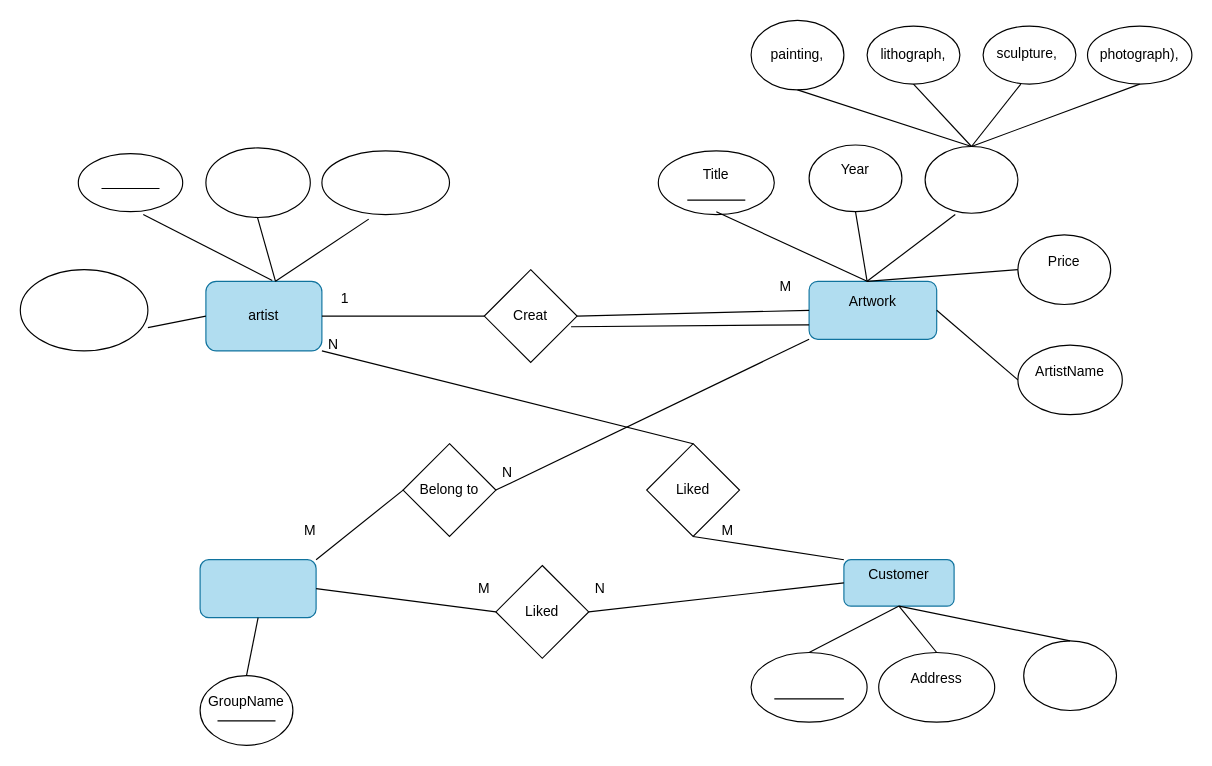
Image size: 1212x766. Some labels were removed from this diagram. The centre of each missing label's shape, as x and y in pixels:
"Age" belongs at (385,182).
"Birthplace" belongs at (257,182).
"CustomerName" belongs at (808,686).
"Group" belongs at (257,588).
"Name" belongs at (130,182).
"Style_of_art" belongs at (83,310).
"Total_Spent" belongs at (1069,675).
"Type" belongs at (971,179).
